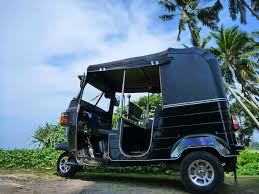tuk tuk: (57, 47, 244, 194)
